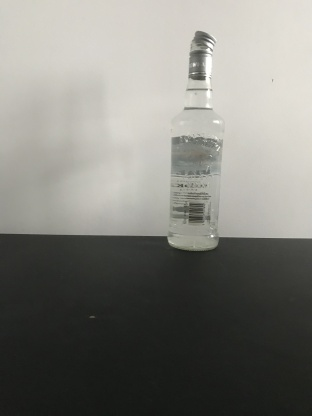nakretka: (187, 28, 217, 80)
